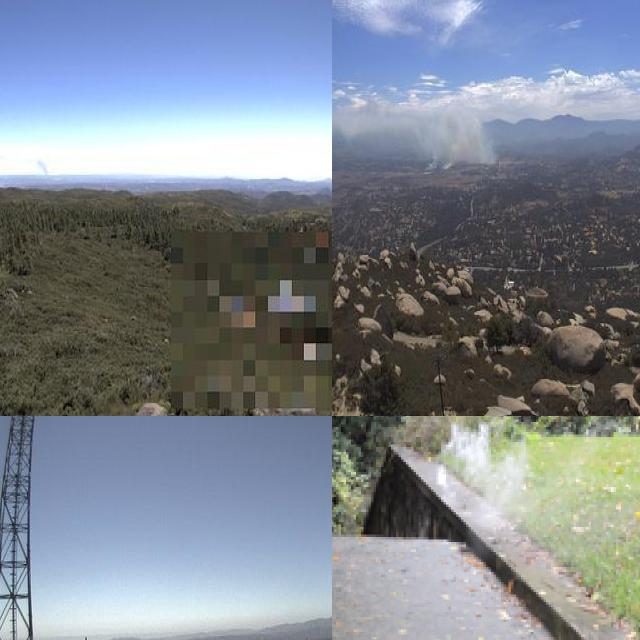smoke: (434, 420, 536, 532), (345, 95, 498, 167), (32, 155, 55, 184)
